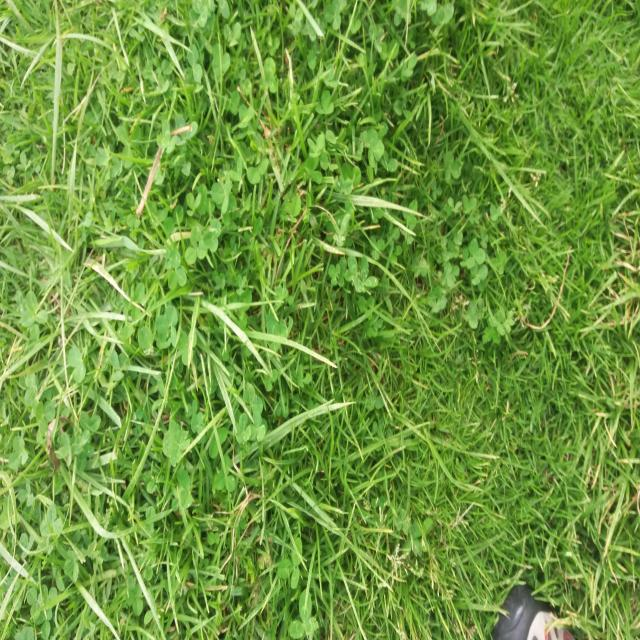Four Leaf Clover: (388, 280, 423, 328), (163, 422, 190, 467)
